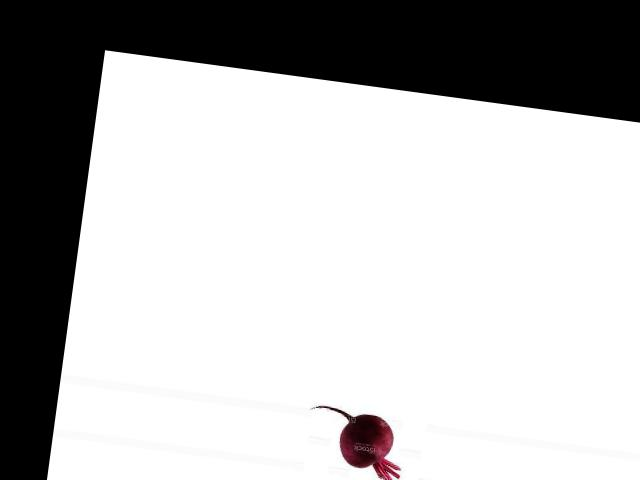beet: (301, 404, 407, 480)
